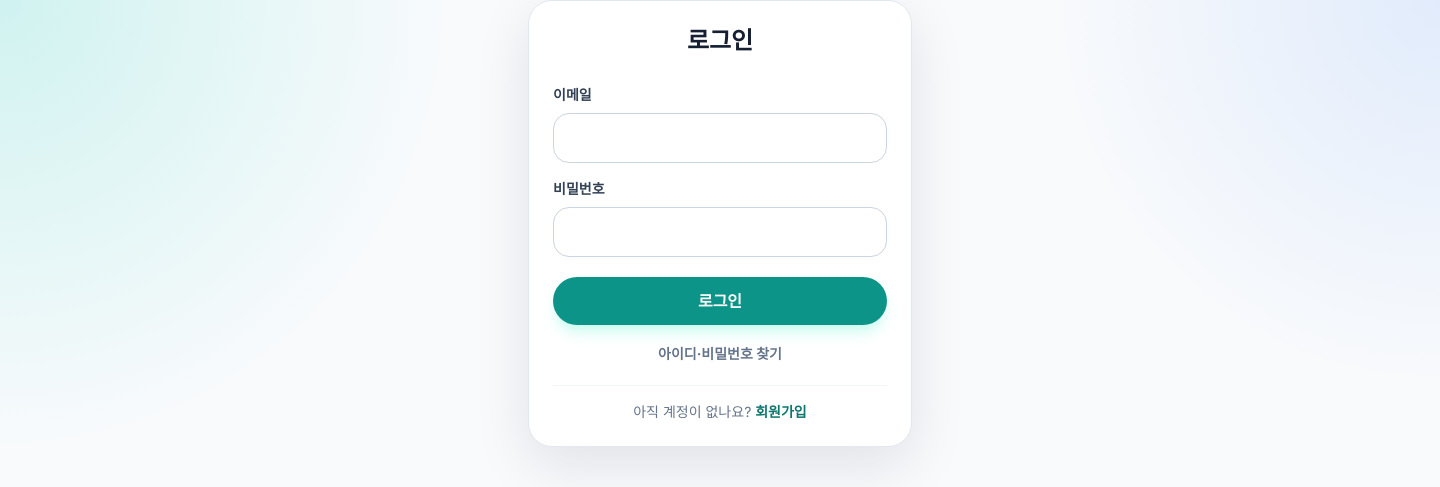
Scenario: AuthPanel › shows email-as-id guidance and password reset form from account help
Click the button "아이디·비밀번호 찾기" at (720, 354), box [658, 344, 782, 364]
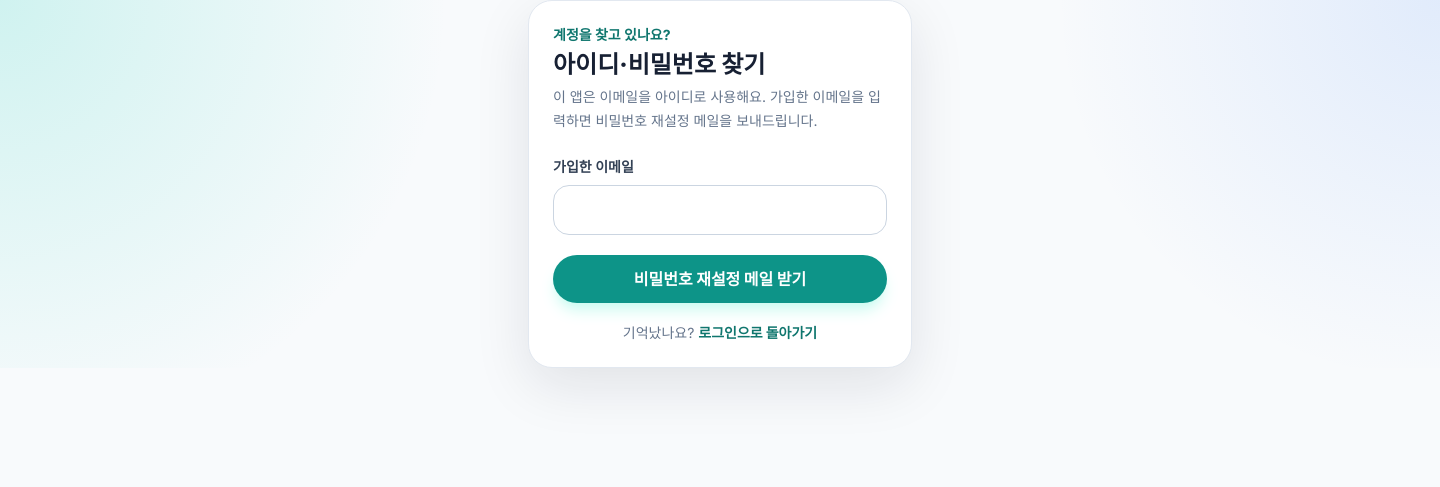
Expected: the heading "아이디·비밀번호 찾기" is shown, [553, 50, 765, 79]
Expected: the text "이 앱은 이메일을 아이디로 사용해요. 가입한 이메일을 입력하면 비밀번호 재설정 메일을 보내드립니다." is shown, [553, 85, 887, 133]
Expected: the button "비밀번호 재설정 메일 받기" is shown, [553, 255, 887, 303]
